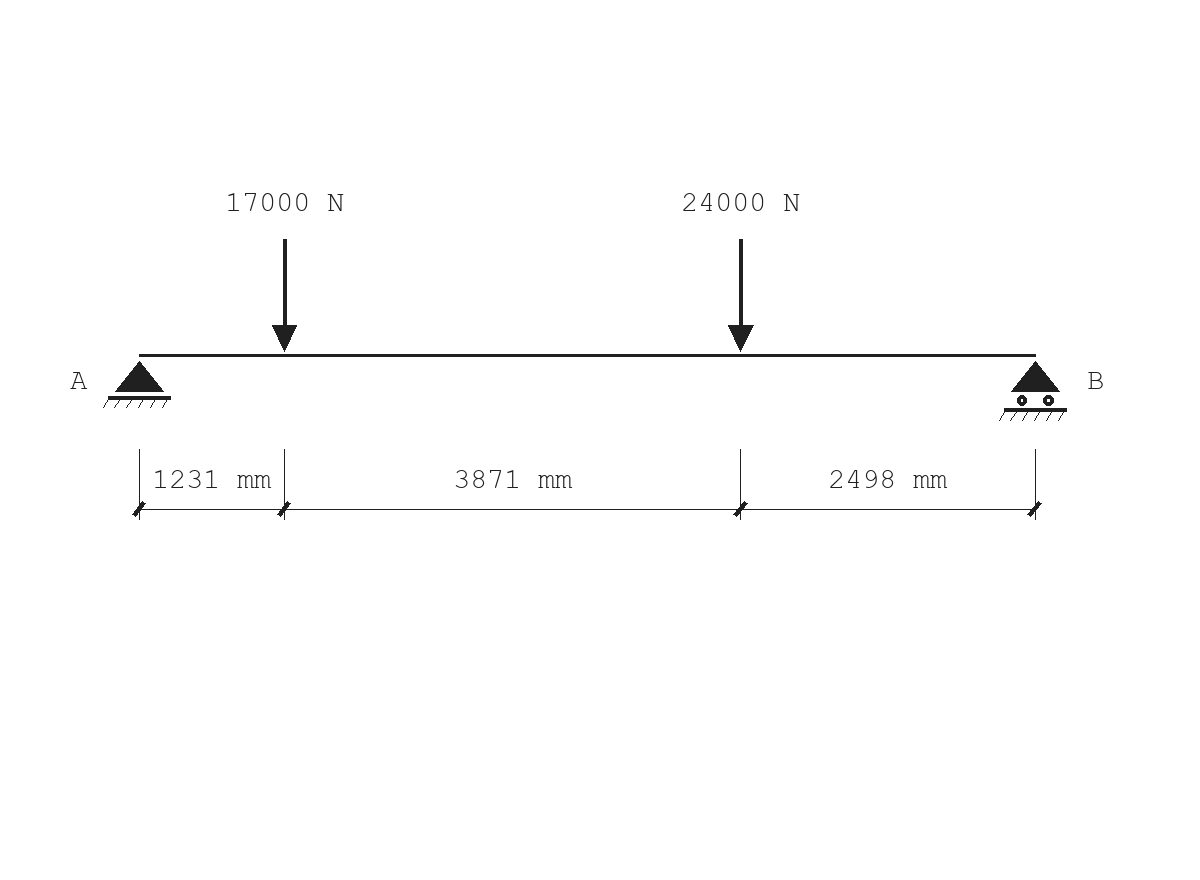pin_support: (103, 361, 171, 408)
point_load: (728, 239, 754, 352), (272, 239, 297, 352)
roller_support: (999, 361, 1067, 421)
